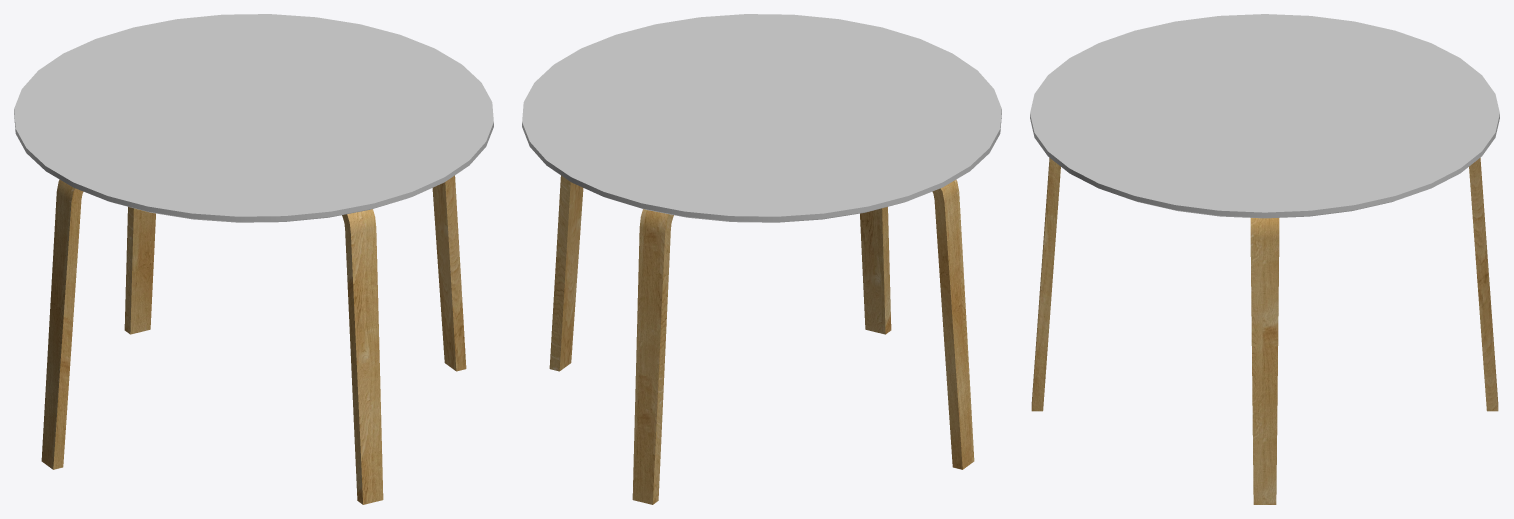
File: sc-round-table.glb
3 views of the same model, side by side, from view 1: azimuth 30°, elevation 25°; view 2: azimuth 150°, elevation 25°; view 3: azimuth 270°, elevation 25° (orthographic). The views are drawn at different scales.
Visible parts, largest first — view 1: table_Cylinder, legs_Cube.001; view 2: table_Cylinder, legs_Cube.001; view 3: table_Cylinder, legs_Cube.001.
Part boxes in pixels (<box>): table_Cylinder: <box>14,14,493,222</box>; legs_Cube.001: <box>41,175,466,504</box>; table_Cylinder: <box>522,14,1001,222</box>; legs_Cube.001: <box>549,175,974,504</box>; table_Cylinder: <box>1030,14,1499,218</box>; legs_Cube.001: <box>1031,158,1498,504</box>.
Size of the model in its own units: 1.1 by 0.757 by 1.1.
2 materials, 1 textured.
